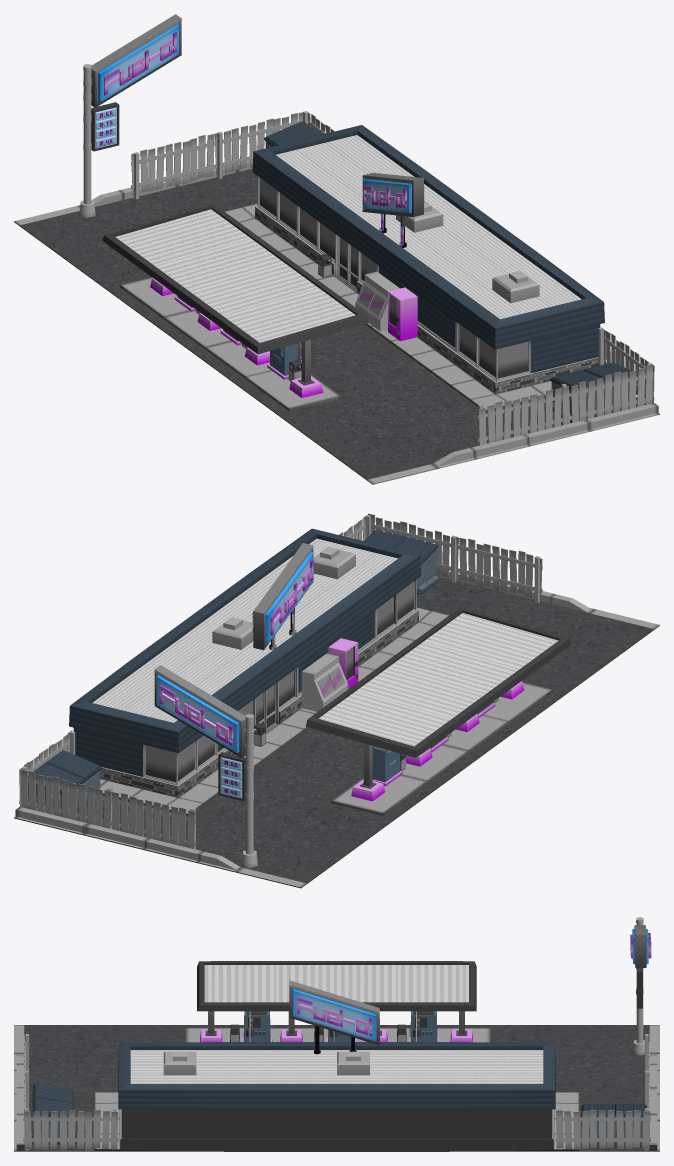
Rendered from miami_FUELO 1.FBX.
The picture shows the model from 3 angles, top to bottom: view 1: azimuth 30°, elevation 25°; view 2: azimuth 150°, elevation 25°; view 3: azimuth 270°, elevation 25°; orthographic projection. The views are drawn at different scales.
Visible parts, largest first — view 1: Box008, Box009, Box068, Box119, Box126, Box127, Box123, Cylinder056, Box122, Box125, Box023, Box010 (+2 smaller); view 2: Box008, Box009, Box119, Box068, Box126, Box127, Box123, Box121, Box122, Cylinder056, Box023, Box125 (+2 smaller); view 3: Box008, Box009, Box068, Box119, Box127, Box122, Box121, Box014, Box020, Box126, Cylinder056, Box010 (+2 smaller).
Boxes of the visible parts, x1=… form: Box008: x1=14, y1=125, x2=659, y2=484; Box009: x1=102, y1=204, x2=368, y2=354; Box068: x1=477, y1=327, x2=654, y2=445; Box119: x1=131, y1=111, x2=334, y2=199; Box126: x1=91, y1=14, x2=181, y2=107; Box127: x1=362, y1=172, x2=424, y2=216; Box123: x1=355, y1=271, x2=399, y2=331; Cylinder056: x1=79, y1=64, x2=95, y2=217; Box122: x1=550, y1=362, x2=636, y2=422; Box125: x1=388, y1=287, x2=417, y2=341; Box023: x1=91, y1=102, x2=119, y2=151; Box010: x1=289, y1=339, x2=323, y2=397; Box008: x1=14, y1=528, x2=659, y2=888; Box009: x1=305, y1=608, x2=571, y2=757; Box119: x1=19, y1=730, x2=196, y2=849; Box068: x1=339, y1=513, x2=542, y2=603; Box126: x1=154, y1=665, x2=245, y2=757; Box127: x1=252, y1=543, x2=313, y2=650; Box123: x1=301, y1=653, x2=348, y2=711; Box121: x1=28, y1=750, x2=101, y2=818; Box122: x1=364, y1=529, x2=438, y2=595; Cylinder056: x1=241, y1=714, x2=257, y2=867; Box023: x1=218, y1=752, x2=245, y2=801; Box125: x1=328, y1=638, x2=358, y2=688; Box008: x1=14, y1=1025, x2=659, y2=1151; Box009: x1=197, y1=961, x2=476, y2=1011; Box068: x1=23, y1=1034, x2=118, y2=1150; Box119: x1=555, y1=1034, x2=650, y2=1150; Box127: x1=289, y1=980, x2=379, y2=1045; Box122: x1=32, y1=1084, x2=74, y2=1144; Box121: x1=580, y1=1104, x2=646, y2=1148; Box014: x1=242, y1=1011, x2=272, y2=1041; Box020: x1=409, y1=1011, x2=438, y2=1041; Box126: x1=630, y1=925, x2=651, y2=967; Cylinder056: x1=632, y1=917, x2=644, y2=1055; Box010: x1=200, y1=1011, x2=222, y2=1042.
Size of the model in its own units: 706 by 393 by 1440.
